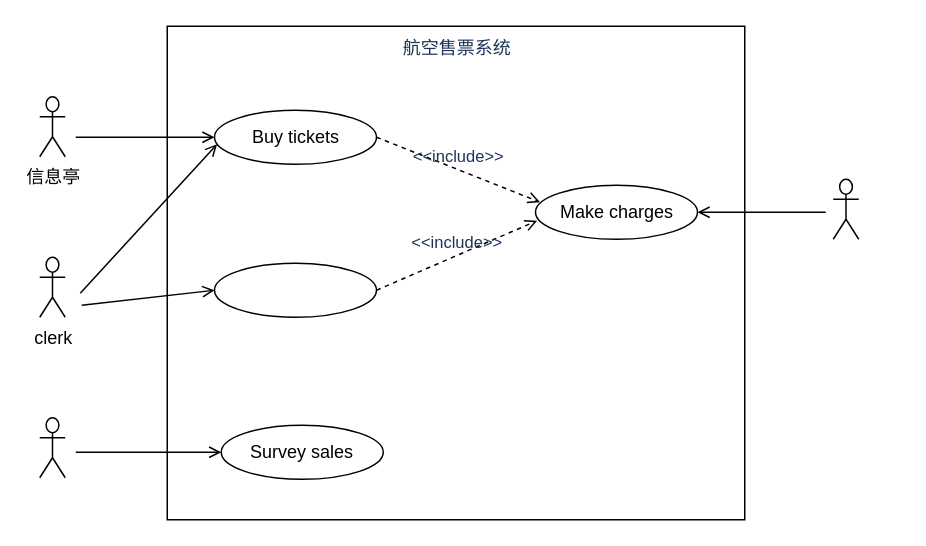
This 926x546 diagram has some shape labels left out. The centre of each missing label's shape, as x and y in pixels:
"Buy Subscription" goes at (x=294, y=289).
"信用卡提供商" goes at (x=845, y=208).
"监督员" goes at (x=51, y=447).
